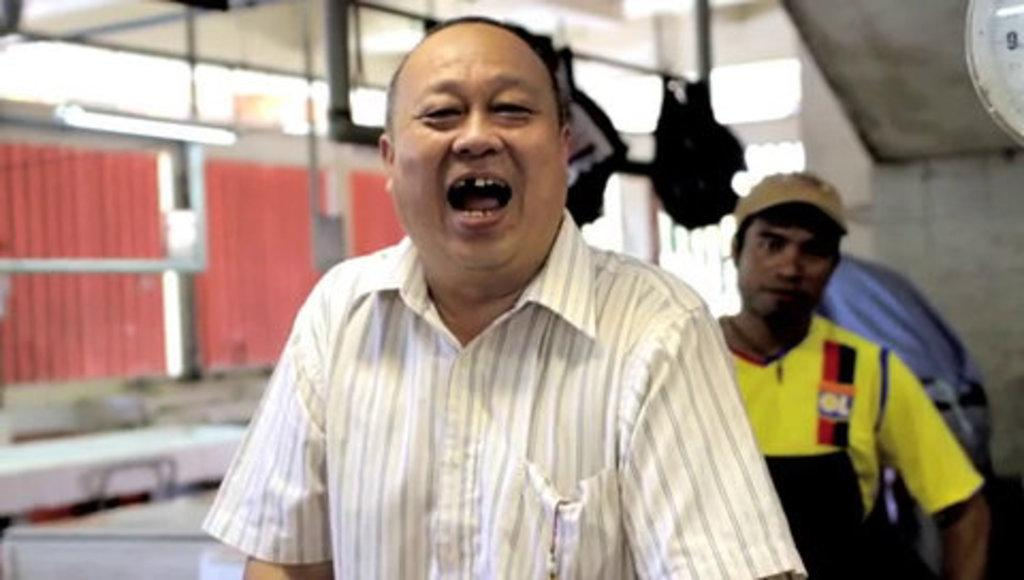Sem Máscara: (391, 28, 566, 273), (734, 222, 835, 323)
